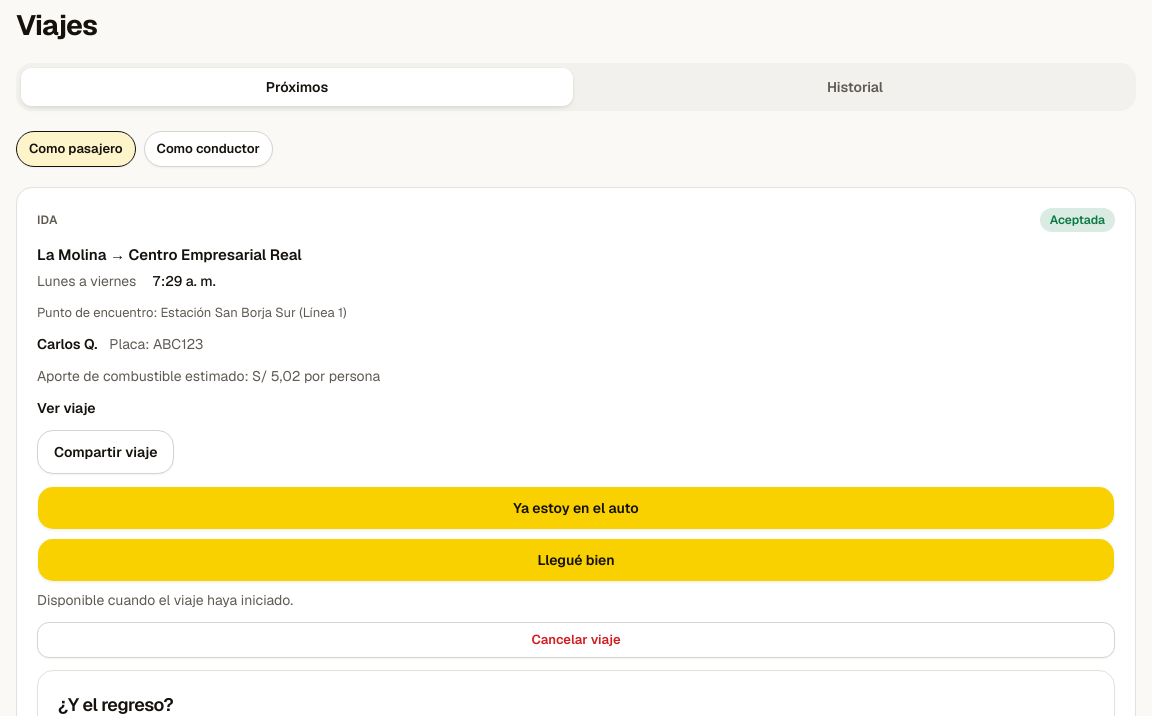
Viajes › shows the driver's offers with their requests, read only
Click the button "Como conductor" at (208, 149), box [144,131,273,167]
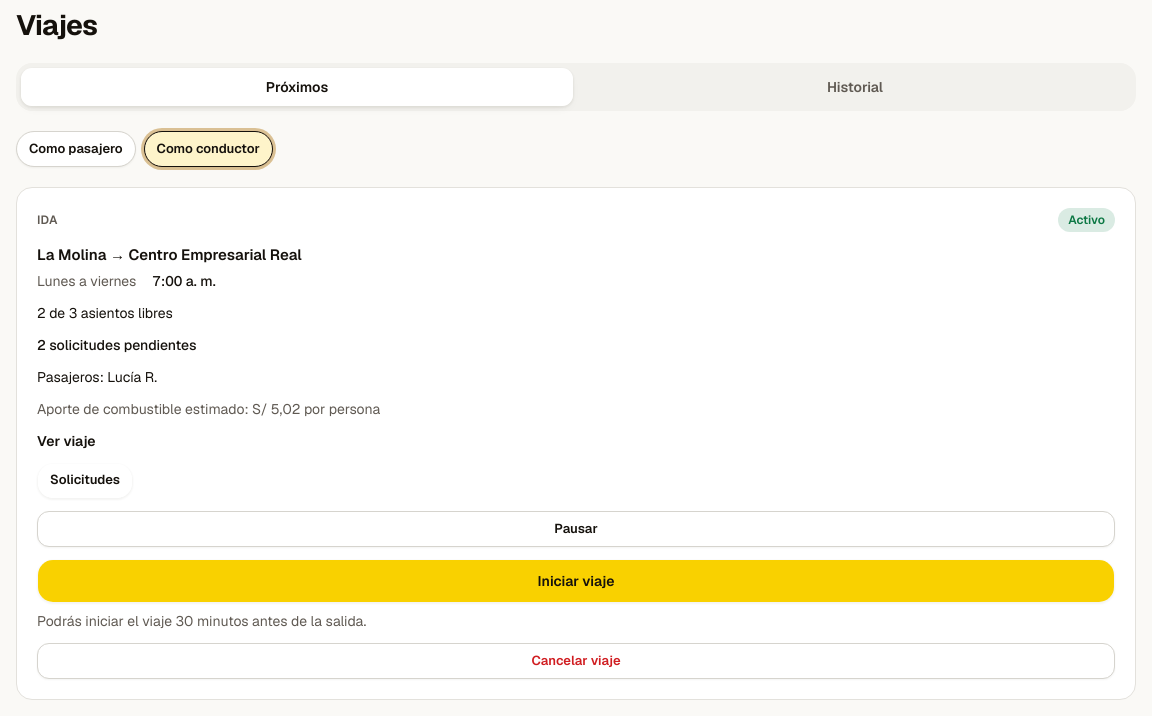
Expected: the text "Activo" is shown, [1058,208,1115,232]
Expected: the text "2 de 3 asientos libres" is shown, [37,304,173,322]
Expected: the text "2 solicitudes pendientes" is shown, [37,336,196,354]
